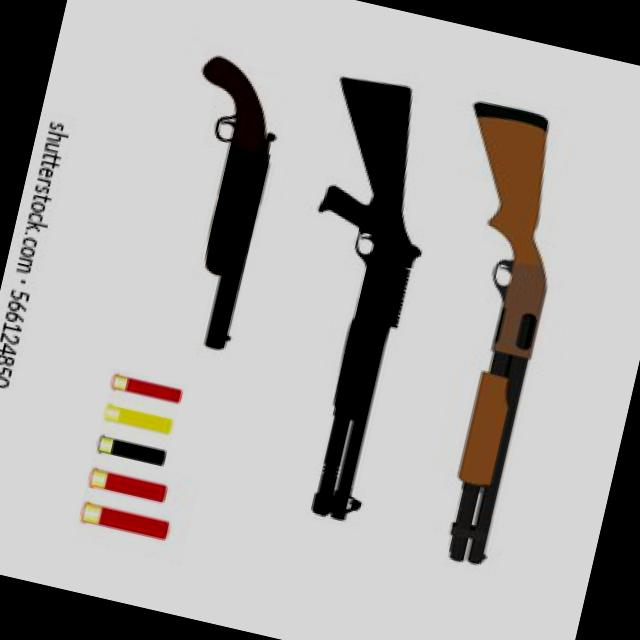long weapon: (376, 68, 612, 583), (231, 54, 456, 550), (113, 20, 314, 367)
